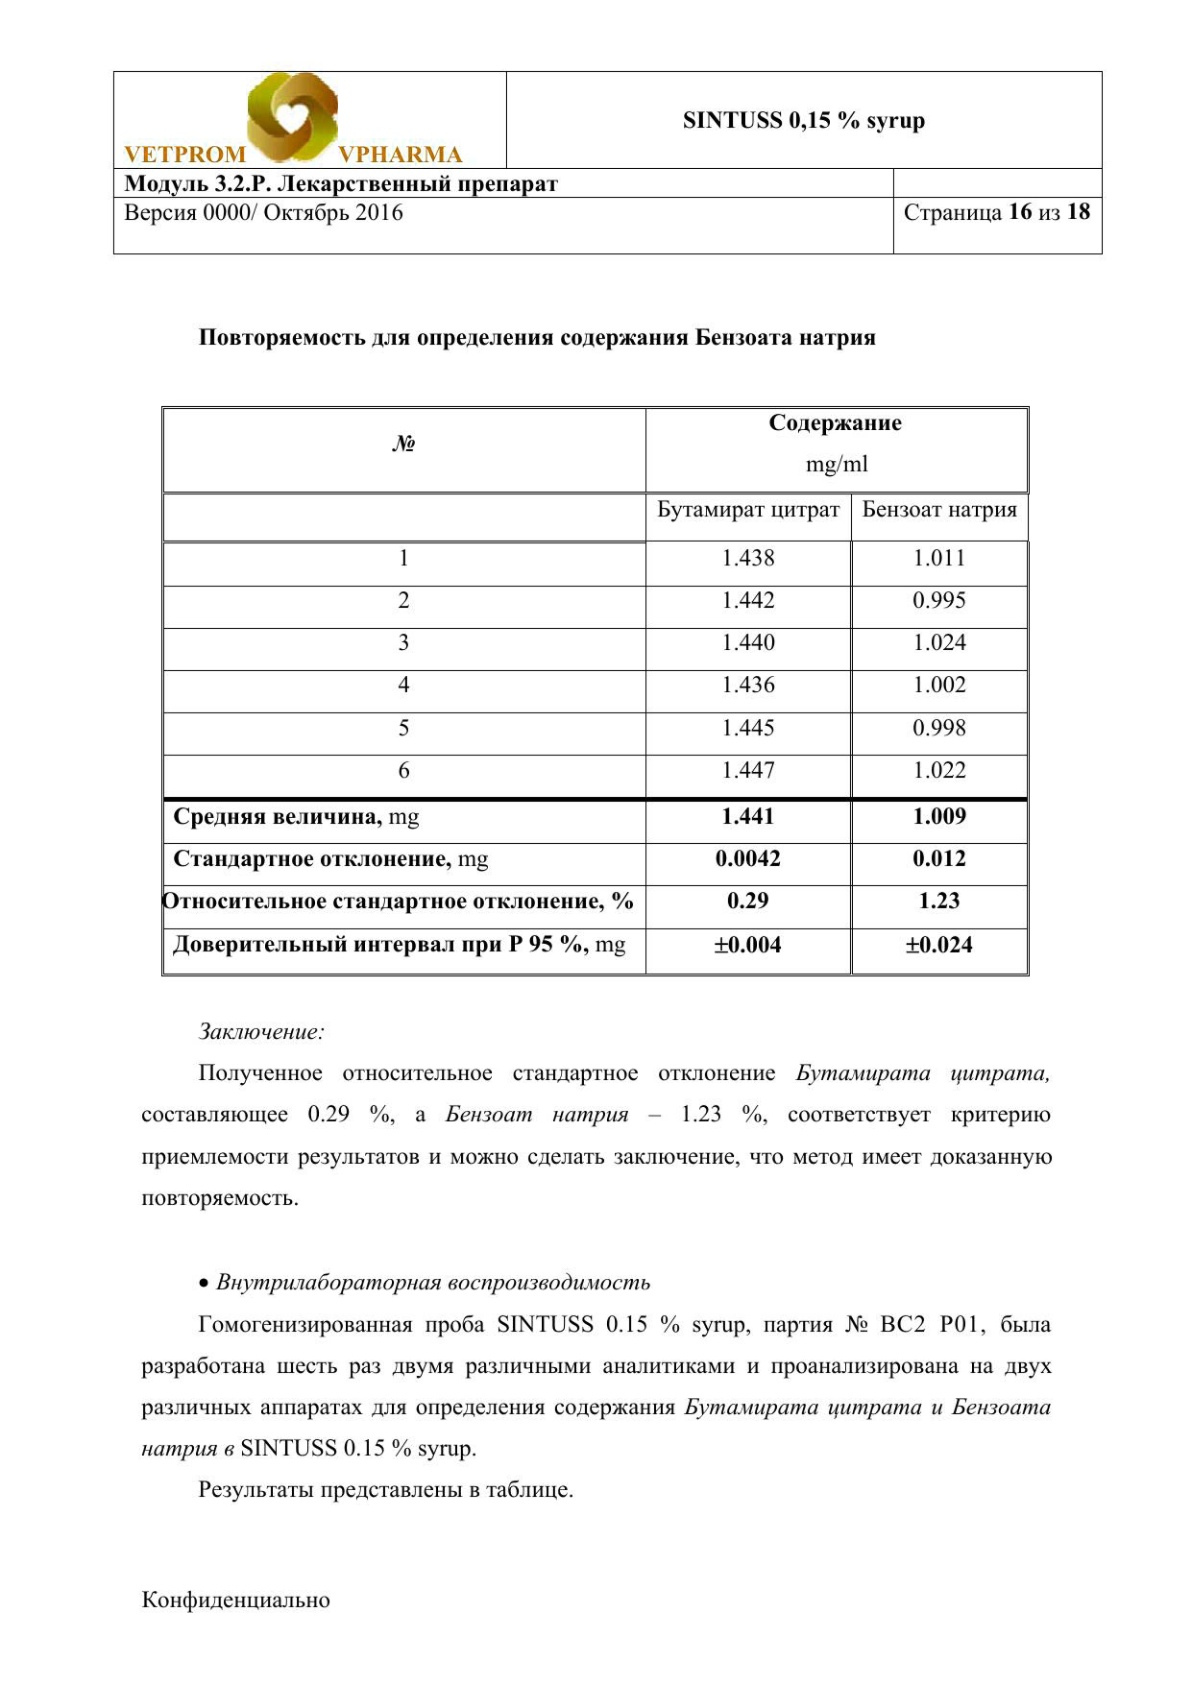merged_cells: (160, 406, 1031, 978), (112, 70, 1104, 255)
